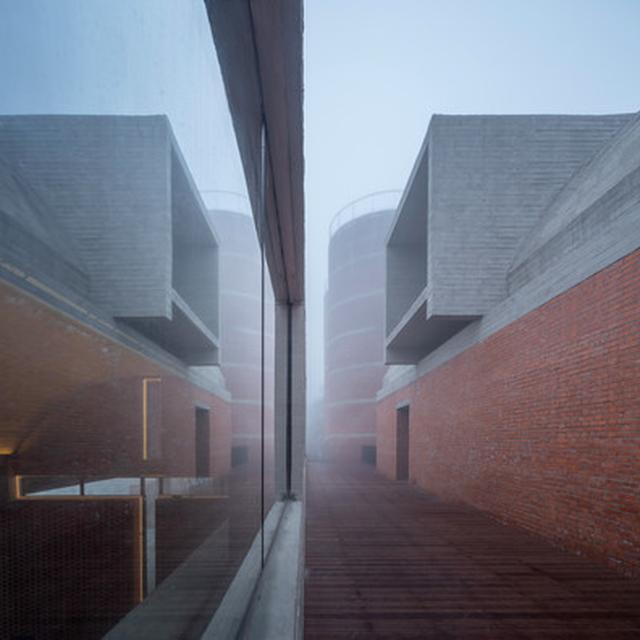building: (0, 0, 307, 640), (326, 110, 640, 616)
